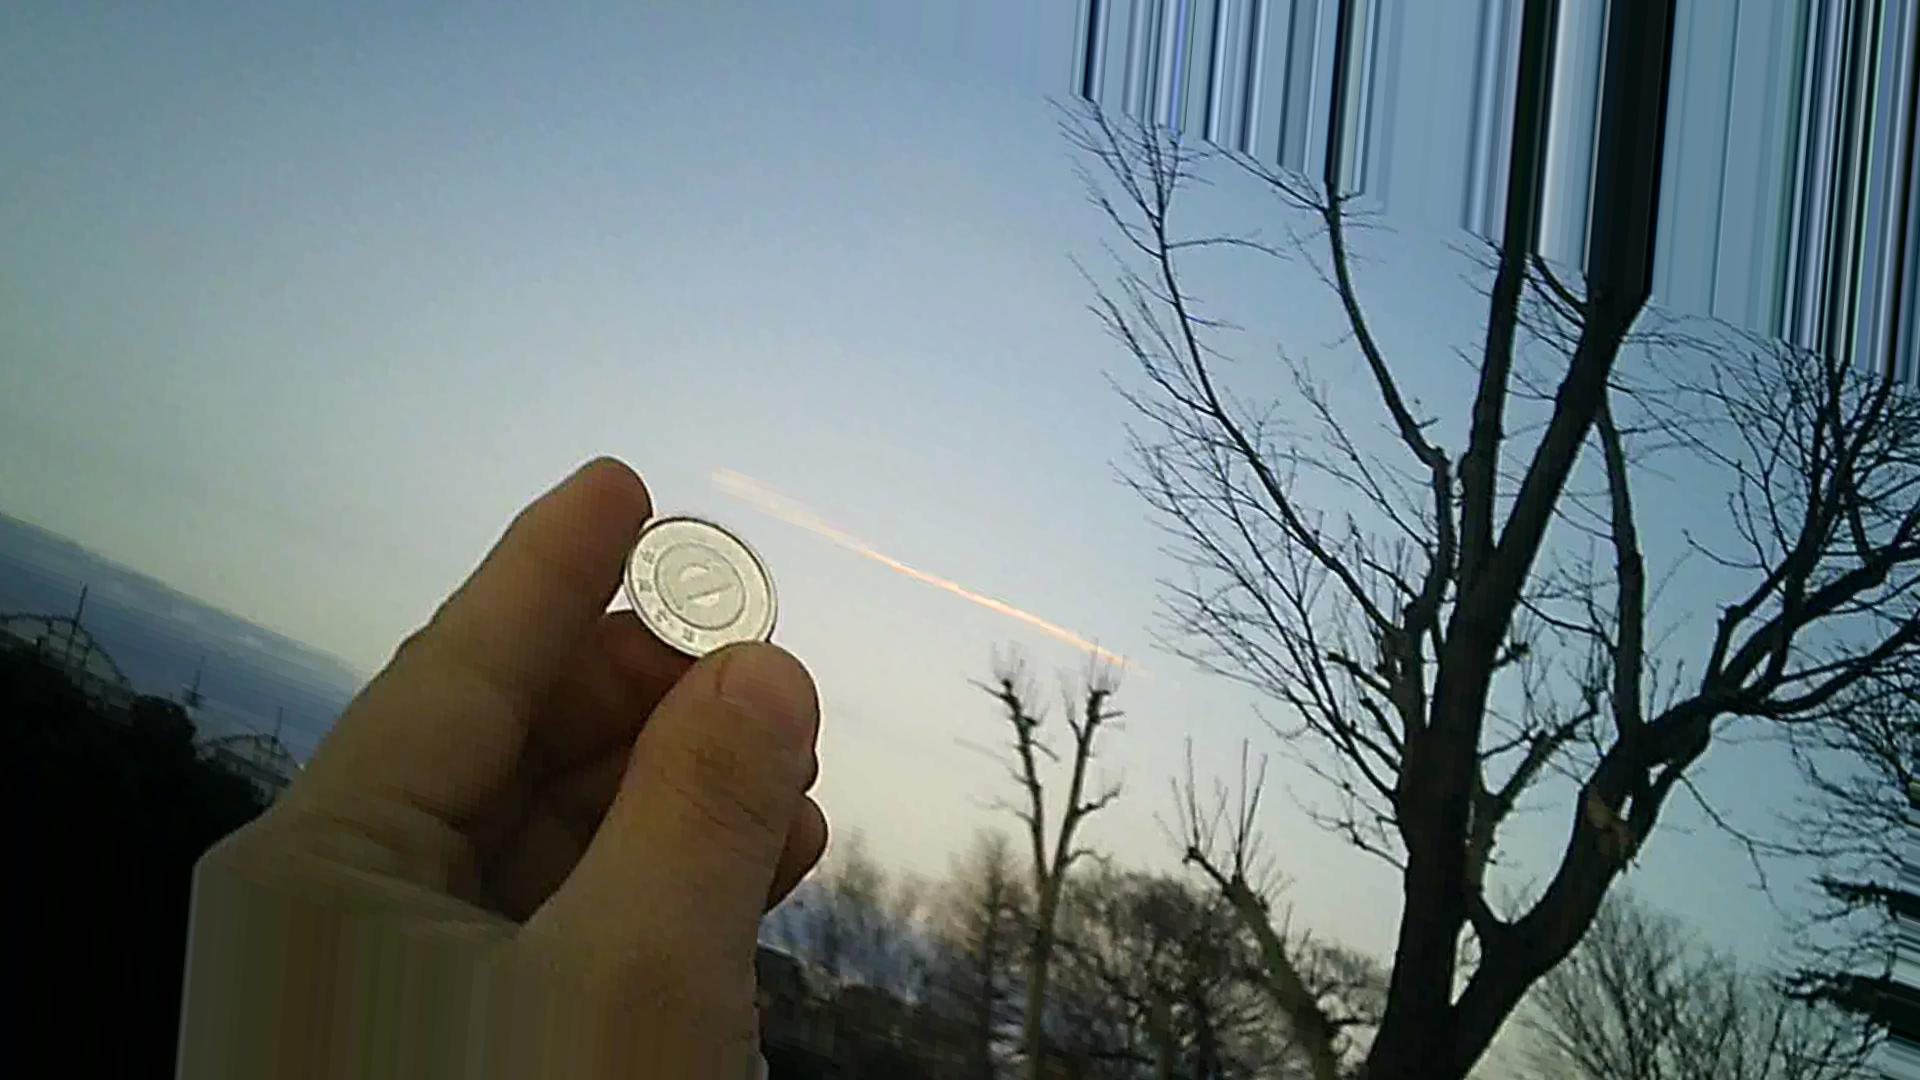1 Yen: (608, 493, 804, 675)
